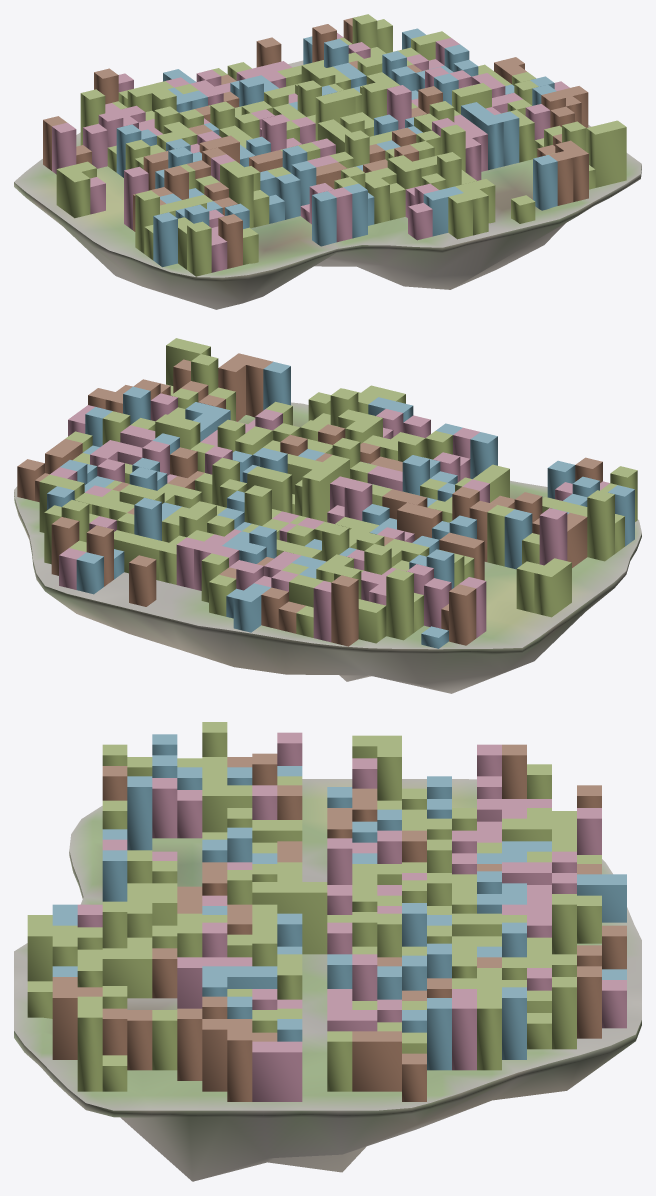
The model's file is SKY-054.lod1.glb.
The picture shows the model from 3 angles, top to bottom: view 1: azimuth 30°, elevation 25°; view 2: azimuth 150°, elevation 25°; view 3: azimuth 270°, elevation 25°; orthographic projection. The views are drawn at different scales.
Visible parts, largest first — view 1: warren_hull, rock, deck; view 2: warren_hull, rock, deck; view 3: warren_hull, deck, rock.
Part boxes in pixels (<box>): warren_hull: <box>43,14,626,276</box>; rock: <box>14,165,641,309</box>; deck: <box>14,60,641,277</box>; warren_hull: <box>17,338,637,648</box>; rock: <box>14,492,641,693</box>; deck: <box>14,402,641,649</box>; warren_hull: <box>27,722,626,1101</box>; deck: <box>14,779,641,1110</box>; rock: <box>14,851,641,1181</box>.
Size of the model in its own units: 189 by 65.21 by 151.
